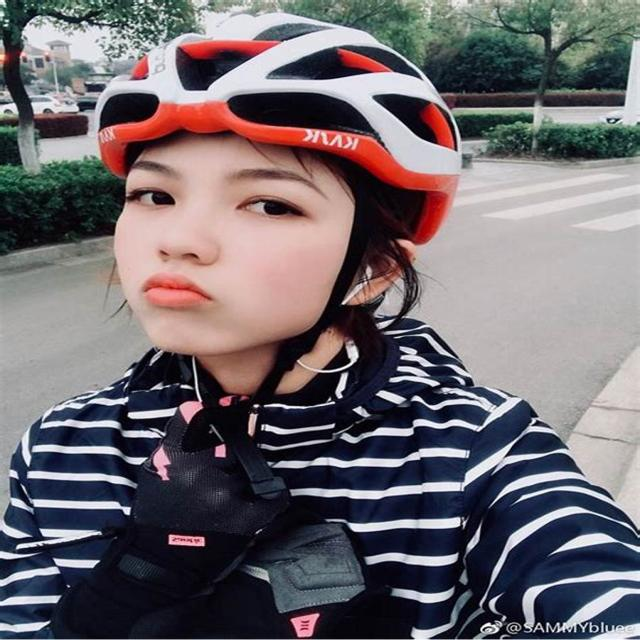illegal_helmet: (82, 3, 474, 365)
